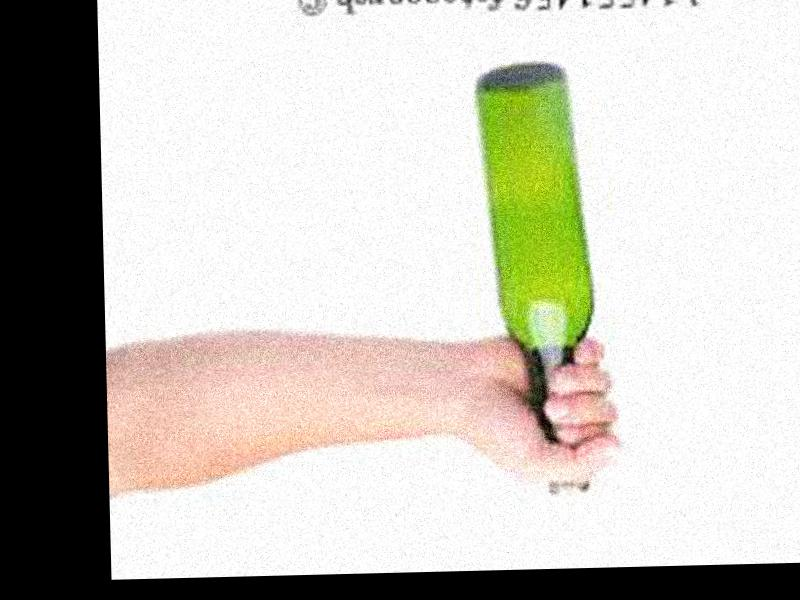Beer: (472, 62, 598, 494)
